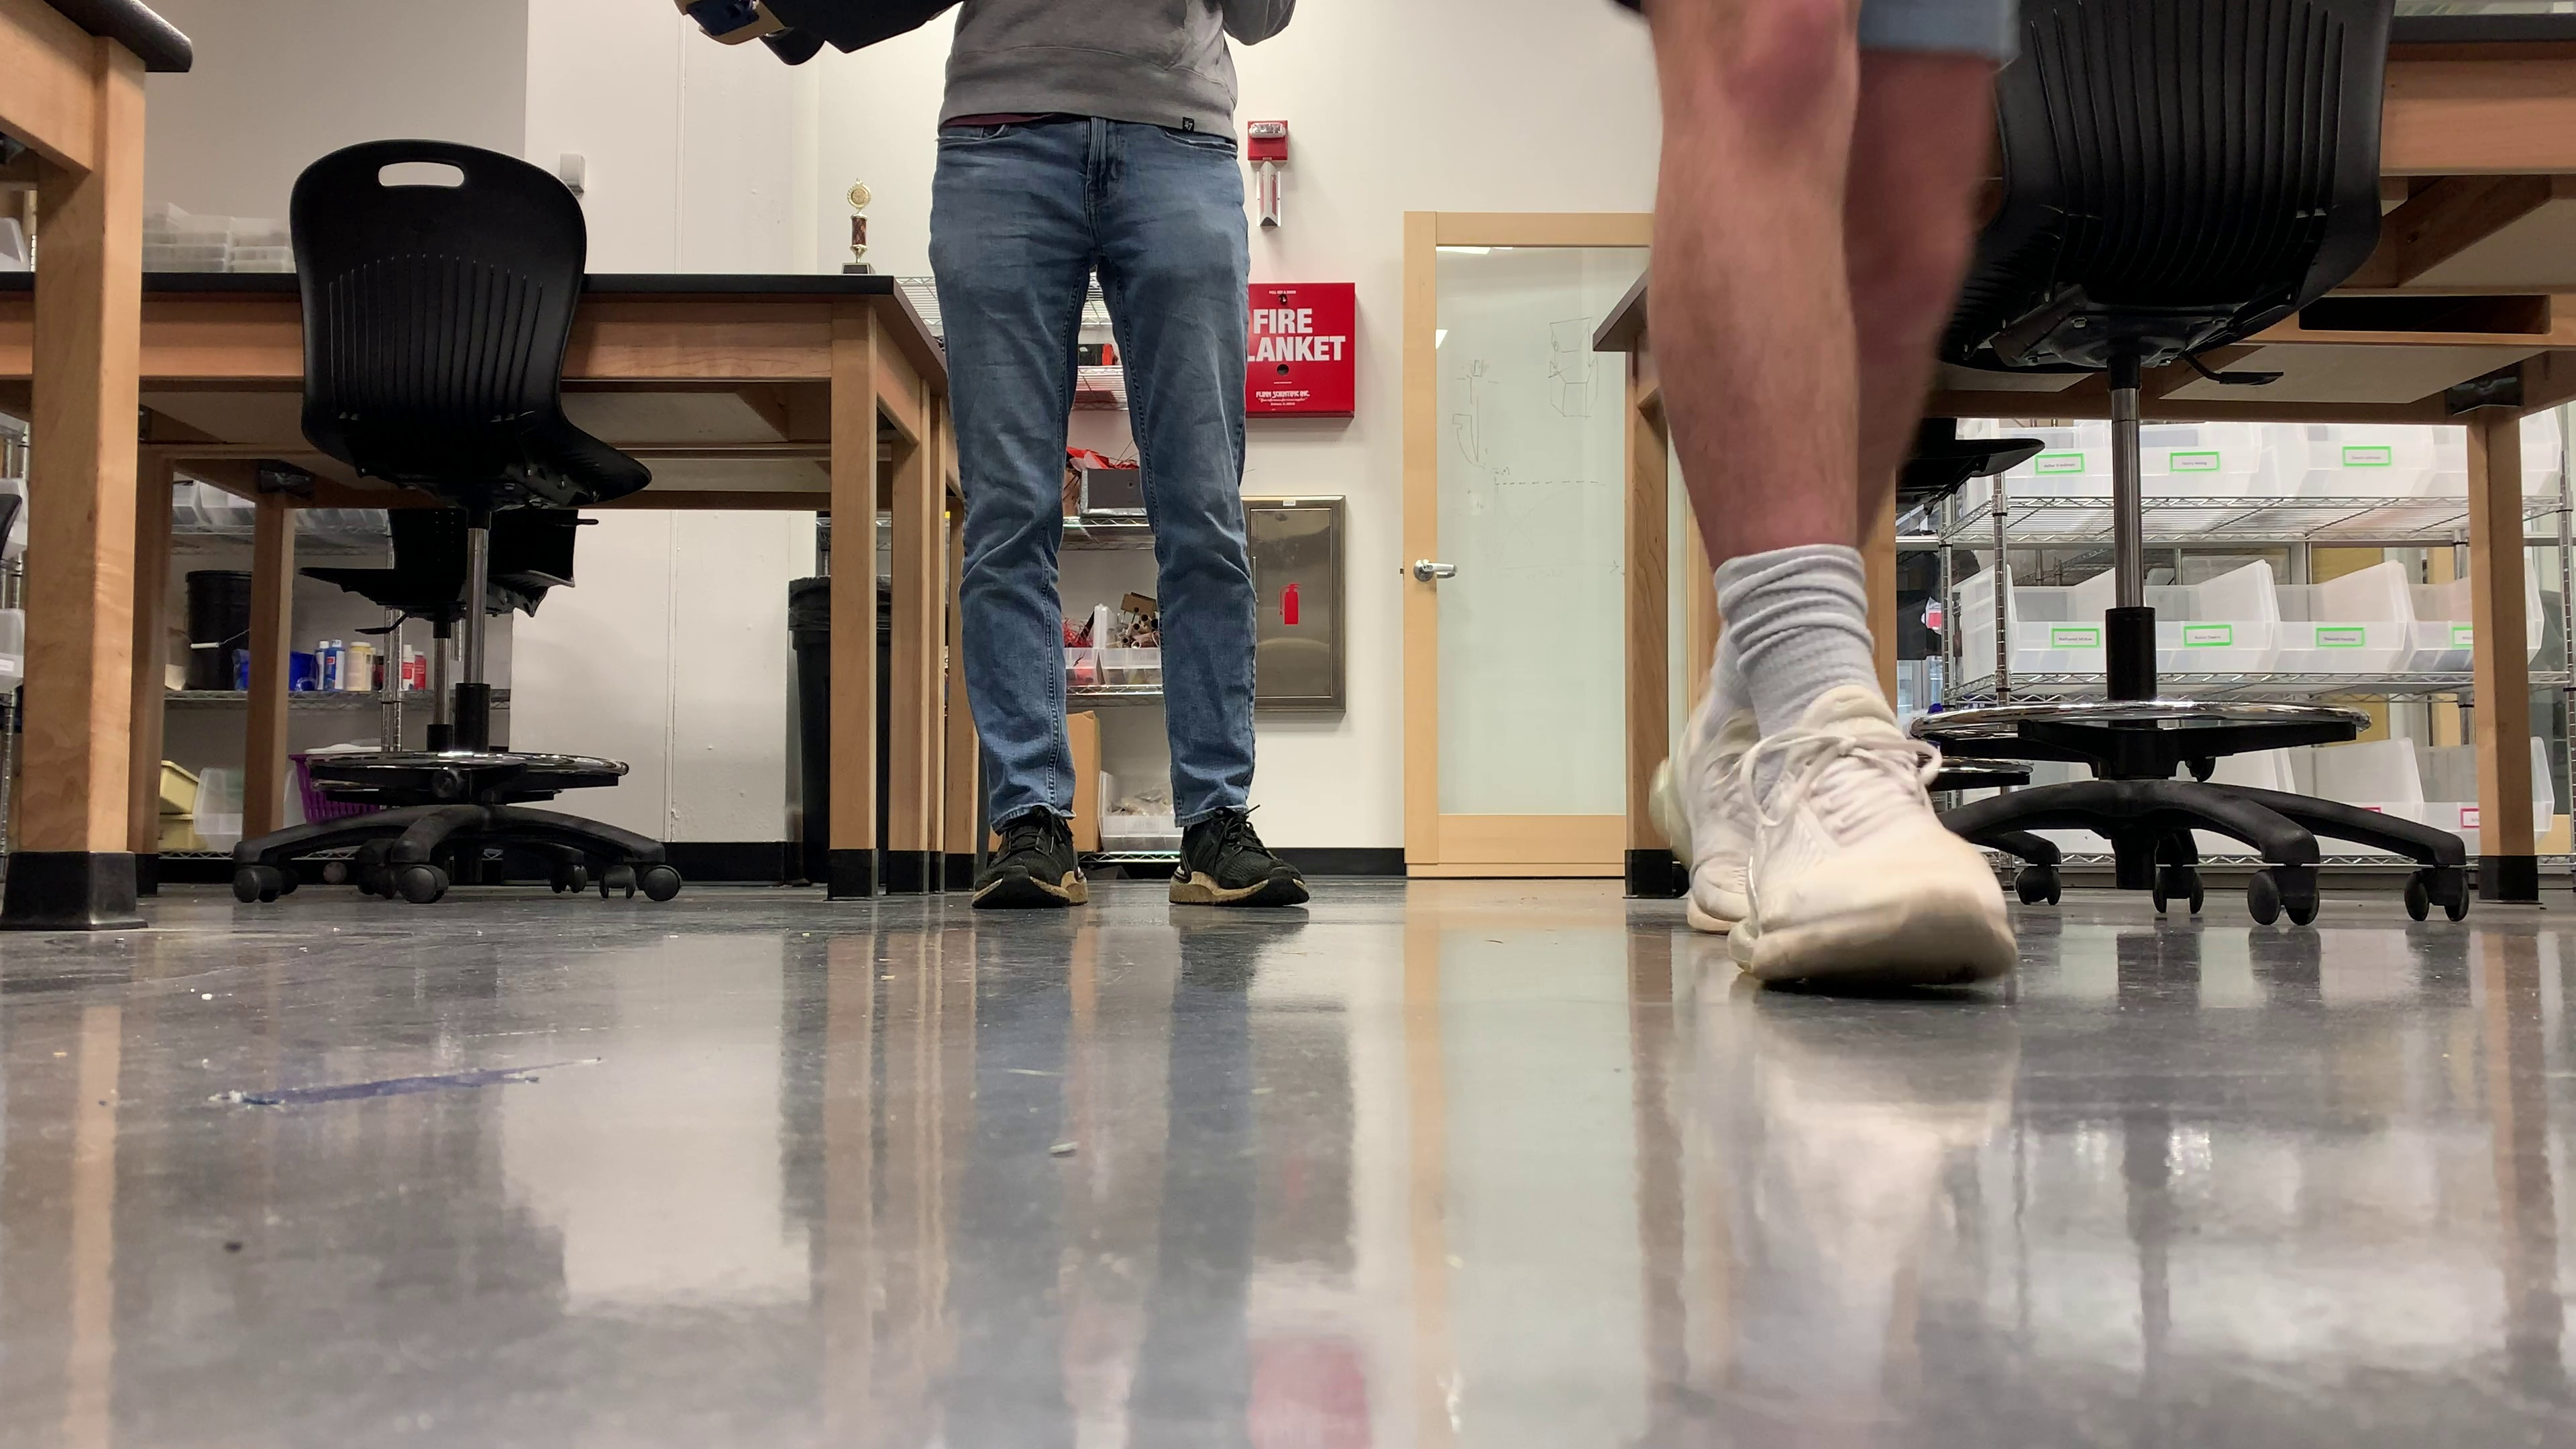shoe: (1730, 683, 2019, 982), (1166, 809, 1302, 908), (970, 807, 1088, 911)
